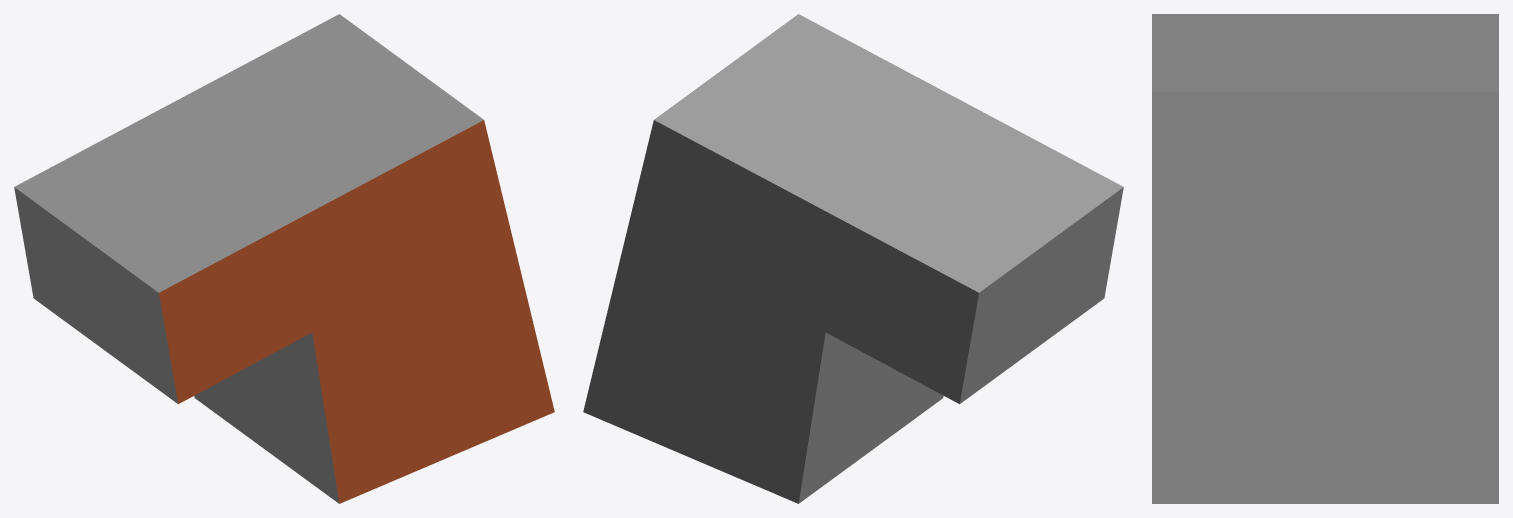
Rendered from construction_2469_assumed_A_Casa_h6m.obj.
3 views of the same model, side by side, from view 1: azimuth 30°, elevation 25°; view 2: azimuth 150°, elevation 25°; view 3: azimuth 270°, elevation 25° (orthographic). The views are drawn at different scales.
Parts seen in each view (by area): view 1: construction_2469_assumed_A_Casa; view 2: construction_2469_assumed_A_Casa; view 3: construction_2469_assumed_A_Casa.
Boxes of the visible parts, x1,y1,x2,y2 form: construction_2469_assumed_A_Casa: (14,14,554,503); construction_2469_assumed_A_Casa: (583,14,1123,503); construction_2469_assumed_A_Casa: (1152,14,1498,503).
Bounding box in the file's own units: 9.48 × 7.98 × 6.
